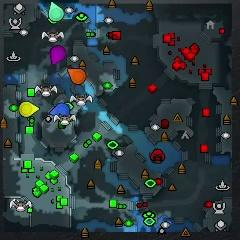p1: (50, 103, 70, 117)
p2: (49, 2, 64, 21)
p3: (50, 45, 66, 65)
p4: (19, 101, 39, 117)
p5: (67, 68, 85, 84)
